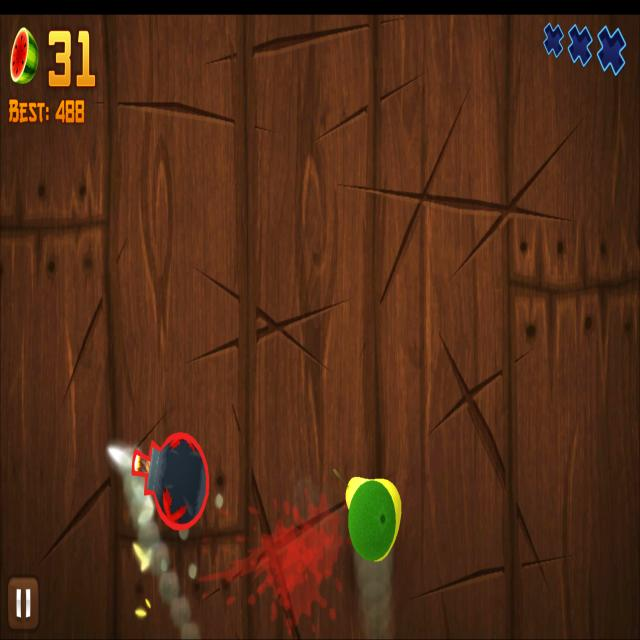bomb: (130, 429, 210, 531)
fruit: (345, 476, 402, 562)
